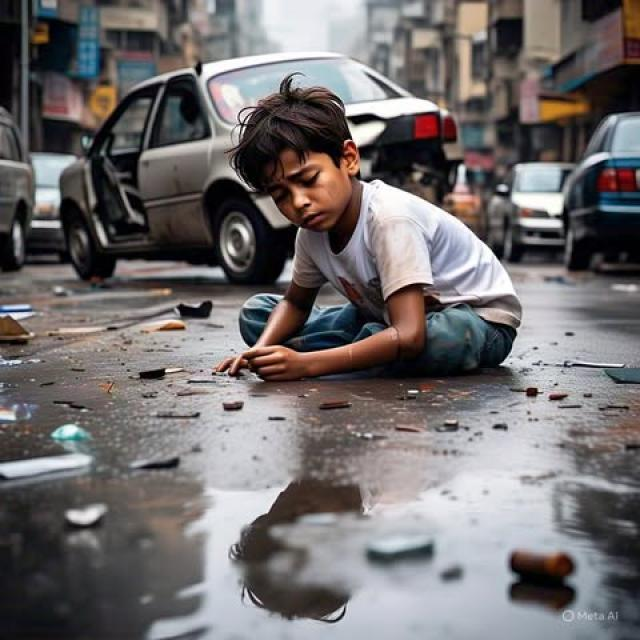injury: (231, 76, 359, 243)
no injury: (216, 75, 521, 380)
